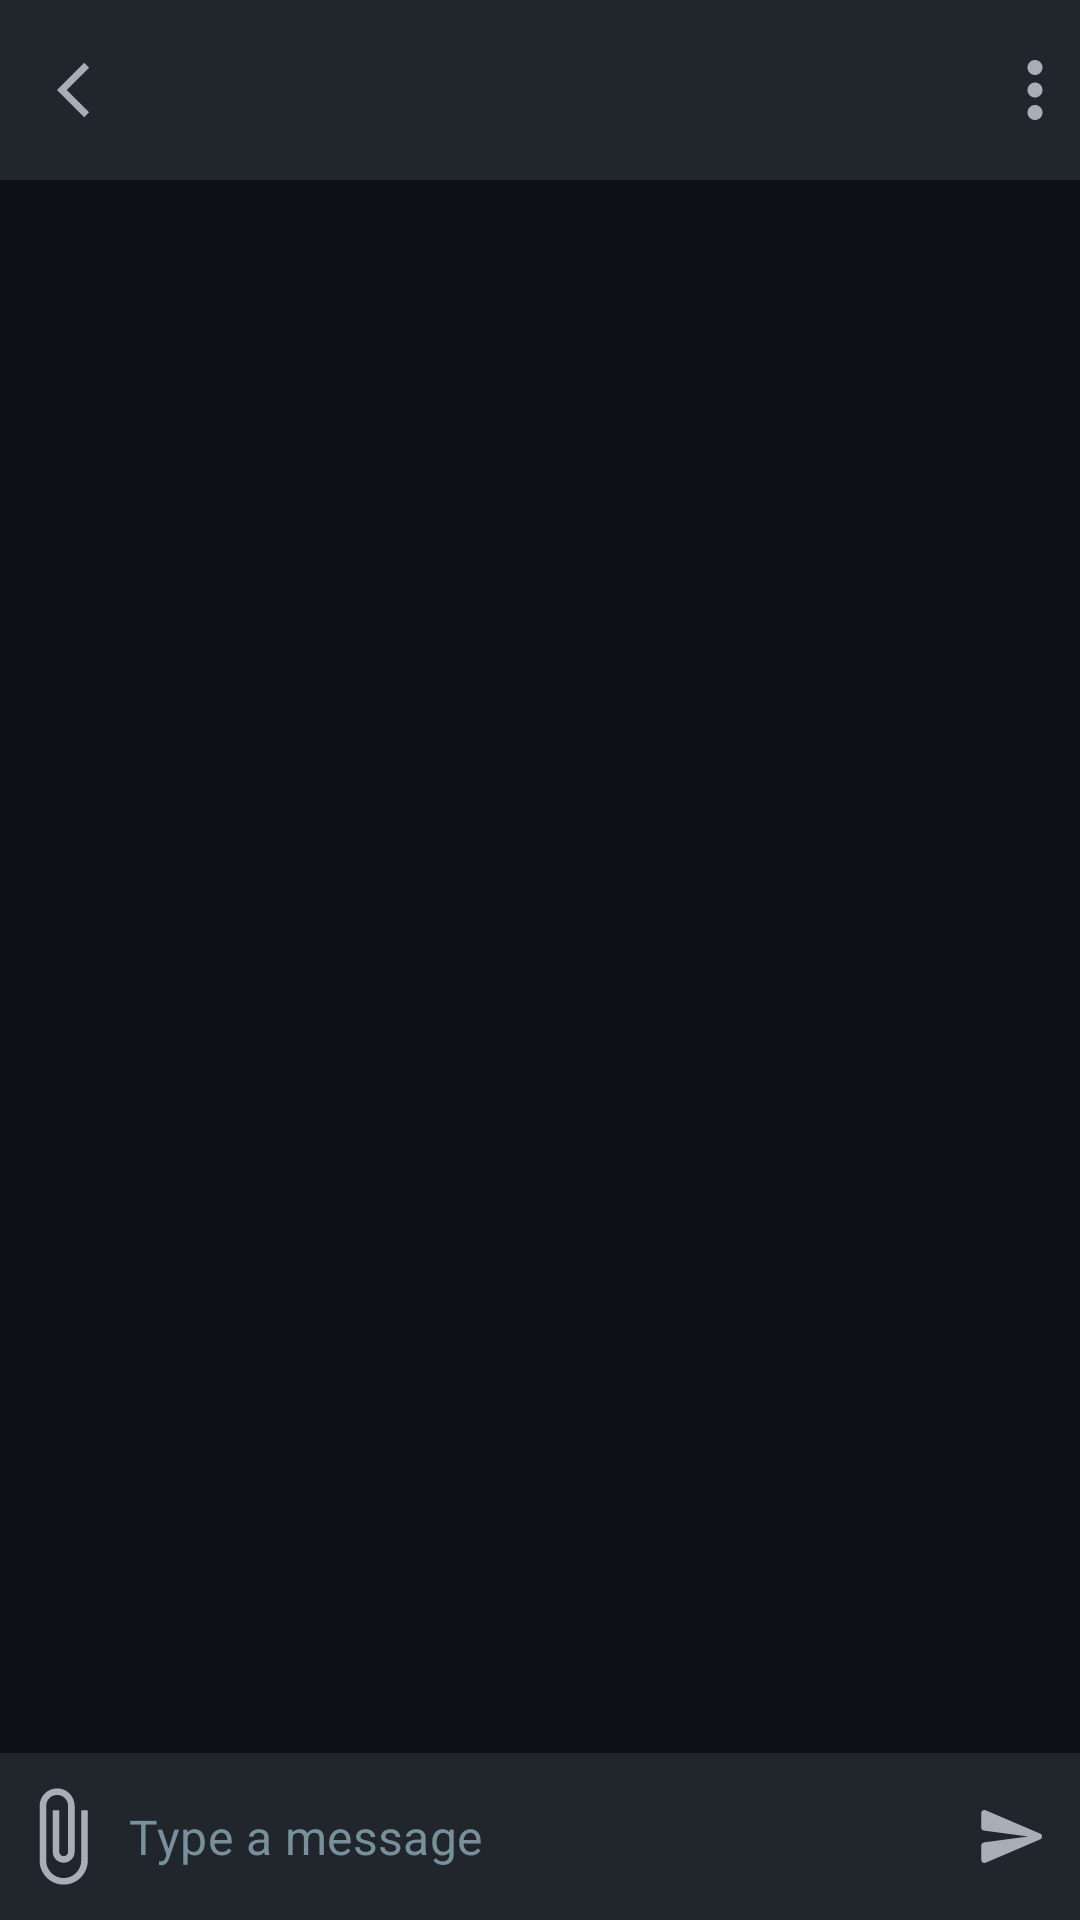

Icon bounding boxes for this 1080x1920 phone screenshot, format bbox(x1, y1, x2, y2):
attach: bbox(39, 1788, 88, 1885)
back: bbox(57, 63, 89, 117)
send message: bbox(981, 1810, 1042, 1863)
